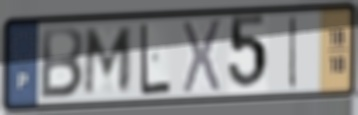5: (226, 12, 270, 96)
B: (37, 25, 87, 101)
I: (287, 13, 299, 92)
L: (138, 21, 172, 98)
M: (81, 25, 135, 98)
X: (181, 16, 224, 96)
